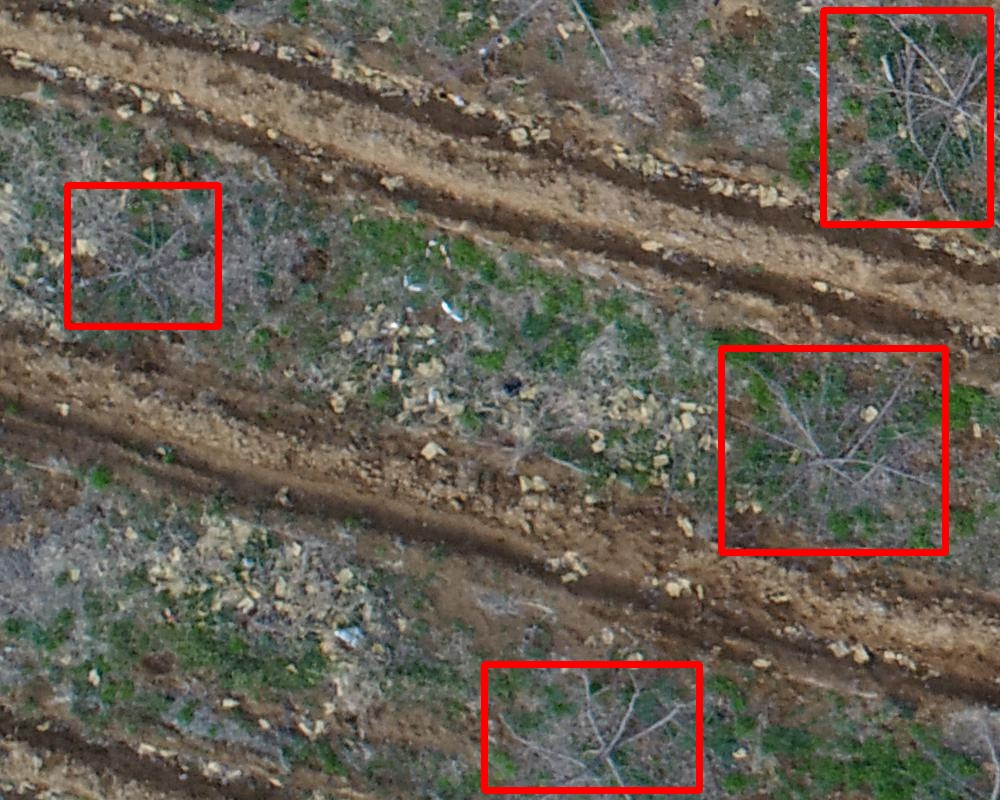apple: (721, 348, 945, 552), (823, 10, 990, 224), (484, 664, 699, 790), (67, 185, 218, 326)
